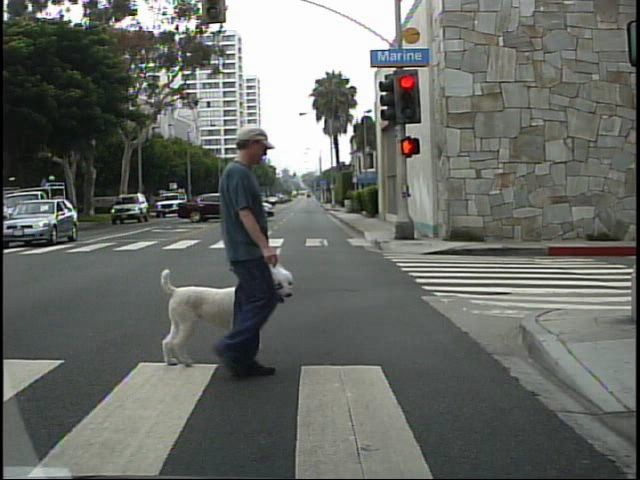person: (173, 119, 311, 386)
